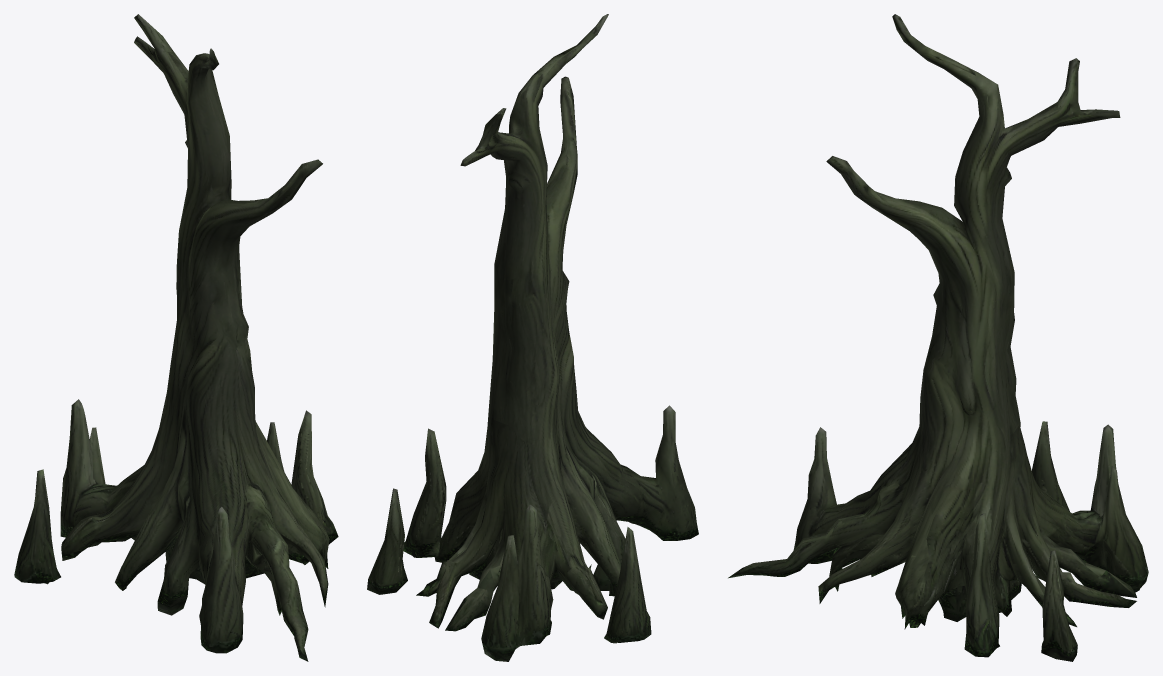
The model's file is Mud_Tree_008.fbx.
3 renders of one model, left to right at view 1: azimuth 30°, elevation 25°; view 2: azimuth 150°, elevation 25°; view 3: azimuth 270°, elevation 25°, orthographic. The views are drawn at different scales.
Visible parts, largest first — view 1: Mud_Tree_008_LOD0; view 2: Mud_Tree_008_LOD0; view 3: Mud_Tree_008_LOD0.
Part boxes in pixels (box(x1,y1,x2,y2)): Mud_Tree_008_LOD0: box(14, 14, 338, 661); Mud_Tree_008_LOD0: box(367, 14, 698, 661); Mud_Tree_008_LOD0: box(728, 14, 1148, 661).
Size of what is drawn, in the model's own units: 954 by 1850 by 1213.
1 material, 1 textured.
